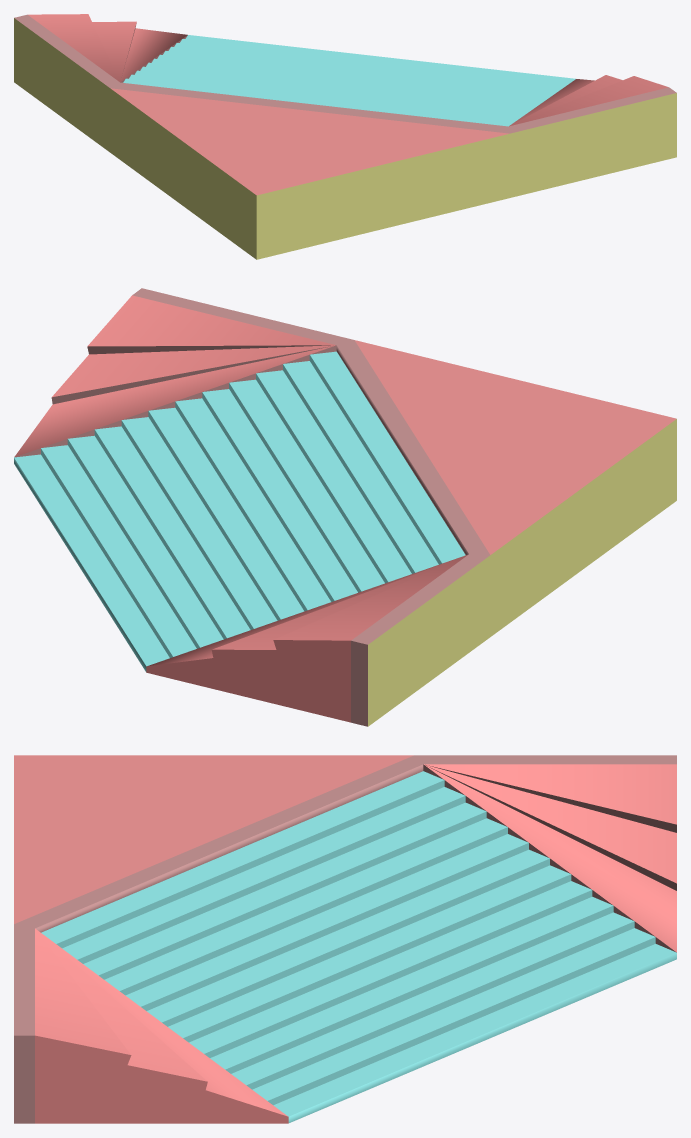
File: stair_02.gltf
The picture shows the model from 3 angles, top to bottom: view 1: azimuth 30°, elevation 25°; view 2: azimuth 150°, elevation 25°; view 3: azimuth 270°, elevation 25°; orthographic projection. The views are drawn at different scales.
Parts seen in each view (by area): view 1: stair_02; view 2: stair_02; view 3: stair_02.
Part boxes in pixels (<box>): stair_02: <box>14,14,676,259</box>; stair_02: <box>14,288,676,726</box>; stair_02: <box>14,755,676,1123</box>.
Size of the model in its own units: 4.37 by 0.64 by 4.37.
